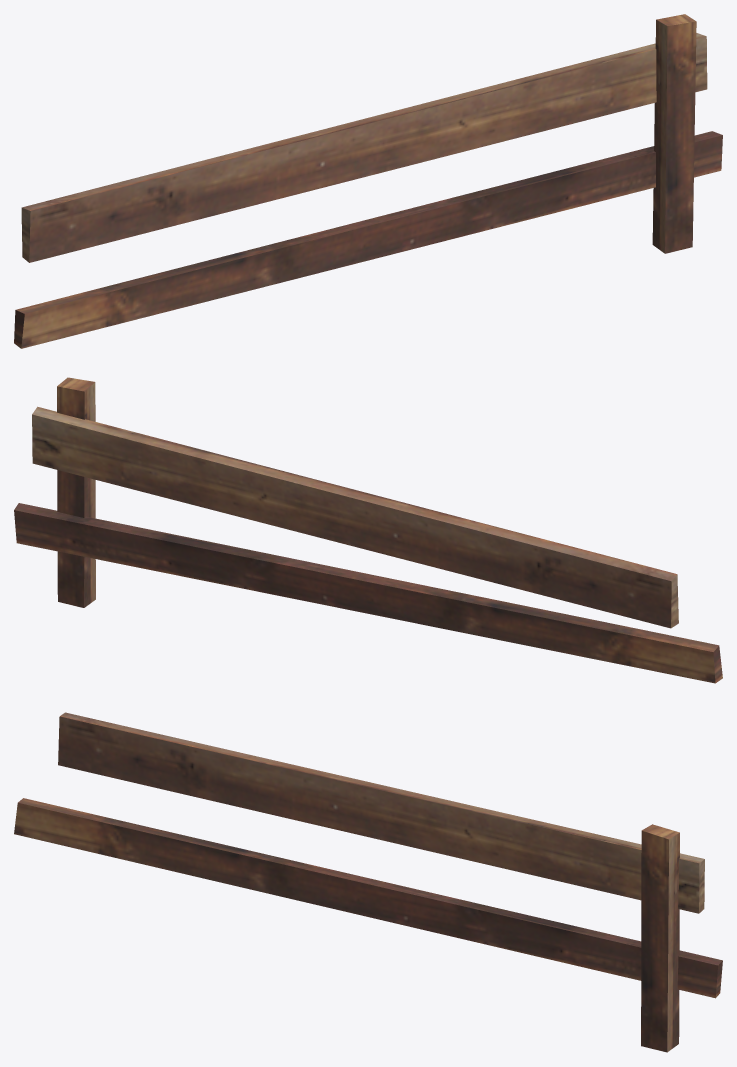
File: fence2.fbx
3 views of the same model, one above another, from view 1: azimuth 30°, elevation 25°; view 2: azimuth 150°, elevation 25°; view 3: azimuth 330°, elevation 25° (orthographic). The views are drawn at different scales.
Parts seen in each view (by area): view 1: fence02; view 2: fence02; view 3: fence02.
Boxes of the visible parts, left/top/right/bottom form: fence02: left=14, top=14, right=722, bottom=348; fence02: left=14, top=377, right=722, bottom=683; fence02: left=14, top=712, right=722, bottom=1052.
Bounding box in the file's own units: 432 × 131 × 28.84.
1 material, 1 textured.
